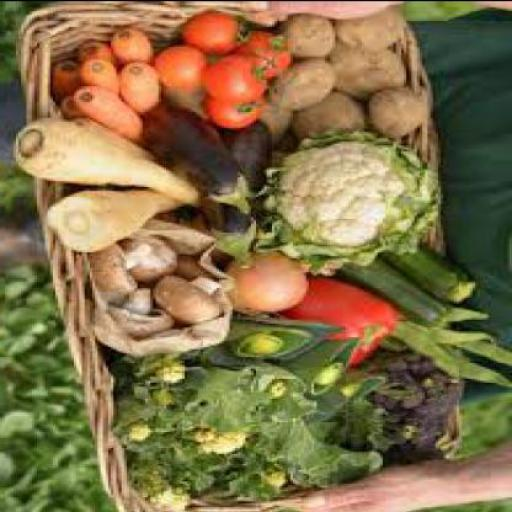biodegradable: (111, 366, 389, 510), (256, 133, 446, 281), (19, 121, 211, 209), (145, 103, 256, 216), (370, 348, 464, 461), (290, 280, 404, 366), (388, 308, 510, 388), (190, 346, 315, 421), (50, 190, 192, 254), (340, 257, 451, 328), (382, 243, 481, 305), (233, 316, 348, 368), (233, 253, 316, 317), (330, 44, 412, 99), (224, 123, 274, 206), (74, 87, 148, 142), (74, 119, 164, 164), (298, 339, 364, 395), (269, 59, 340, 111), (296, 91, 370, 140), (338, 8, 409, 54), (158, 277, 227, 324), (182, 12, 254, 56), (210, 202, 258, 268), (372, 89, 433, 140), (206, 56, 272, 102), (93, 245, 142, 300), (124, 236, 182, 282), (240, 32, 293, 79), (158, 47, 214, 91), (280, 16, 338, 58), (119, 63, 163, 117), (208, 98, 270, 133), (116, 30, 158, 65), (84, 61, 122, 97), (263, 107, 293, 147), (182, 253, 219, 285), (53, 62, 85, 98), (79, 43, 119, 65), (64, 99, 84, 119)
